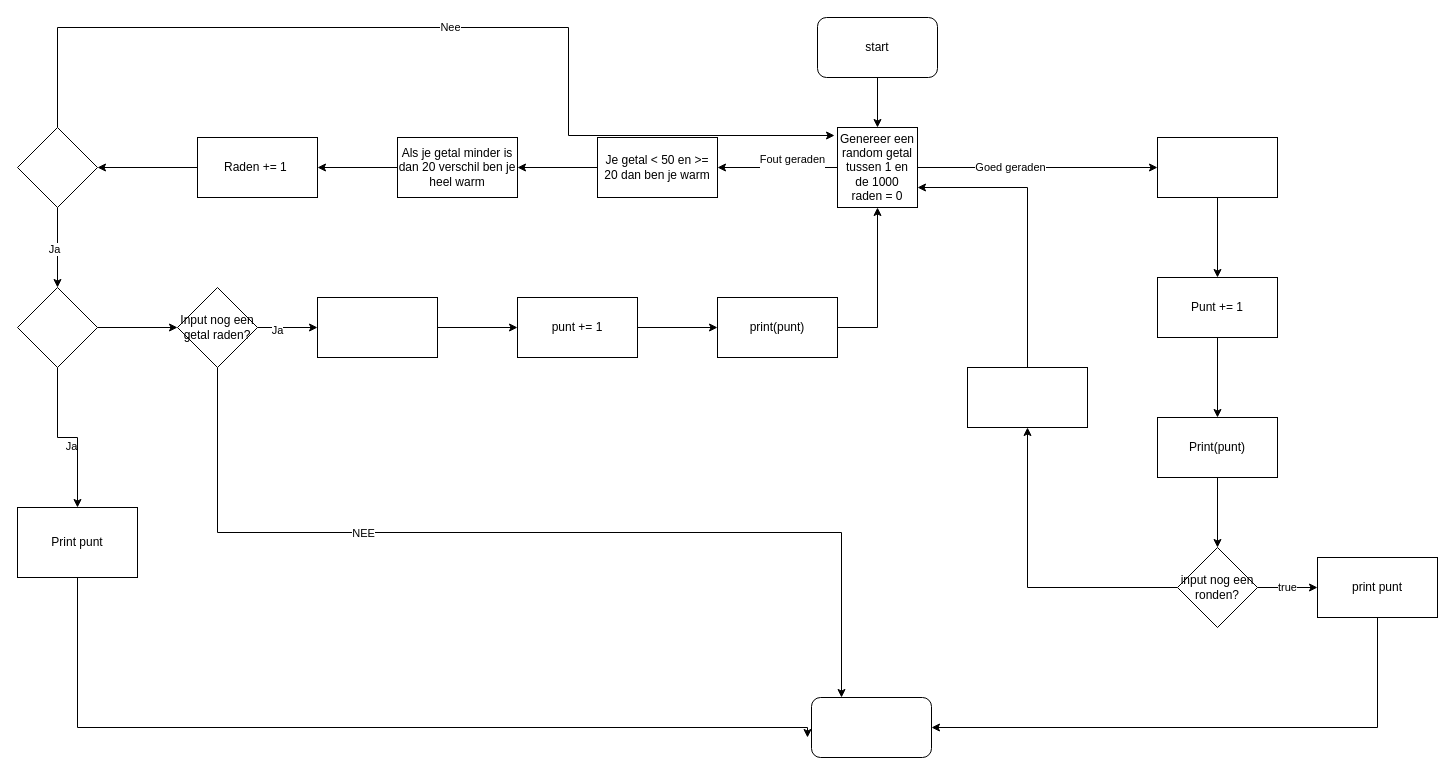
Some shapes in this 1455 by 775 pixel diagram are drawn without their labels. The shapes that lost their labels are listed below. From the top down, each one's box as (x1, y1, x2, y2) in pixels, then its label:
(16, 126, 98, 208): raden >= 10
(1156, 136, 1278, 198): print(Goed geraden)
(16, 286, 98, 368): Rondes >= 20
(316, 296, 438, 358): ronden +=1
(966, 366, 1088, 428): Ronden == 1
(810, 696, 932, 758): Einde
